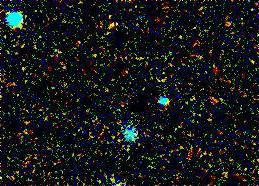star: (96, 18, 126, 48)
